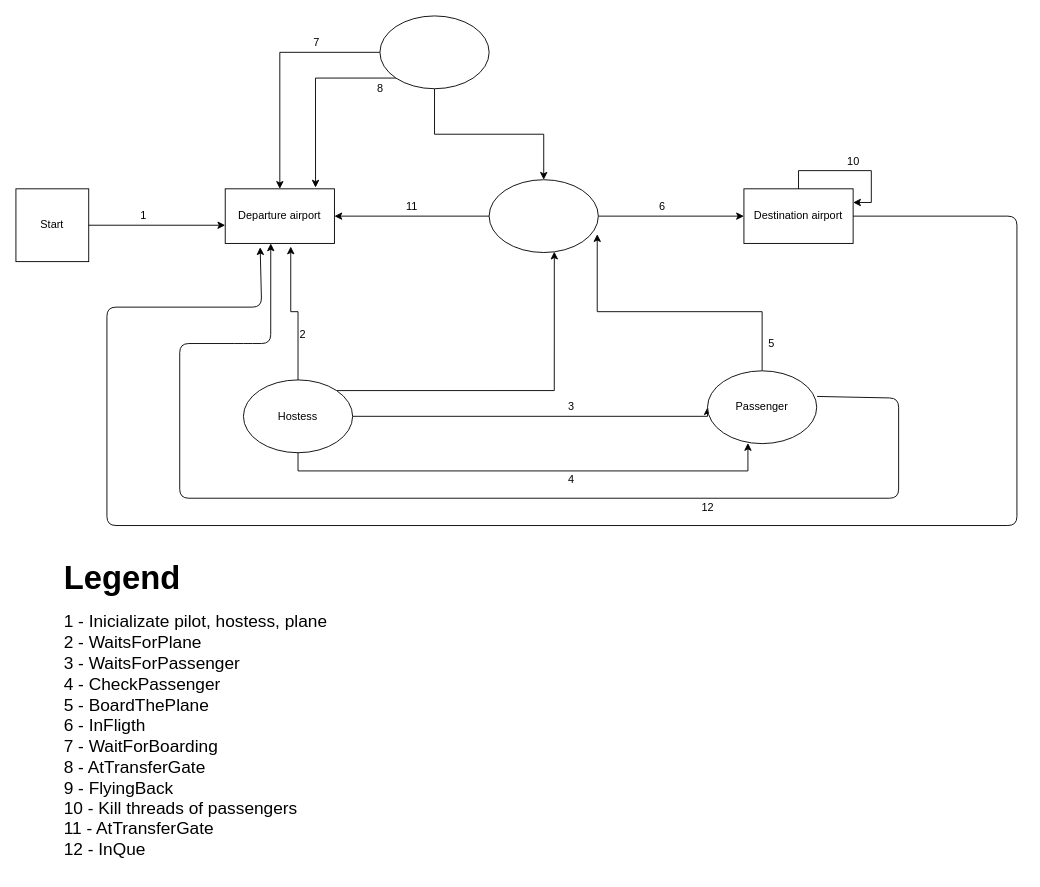
The diagram is 1040 pixels wide and 887 high, and some of its shapes have lost their labels. Each missing label, with the box of its shape:
Pilot: (379, 15, 489, 89)
Plane: (488, 179, 598, 253)
